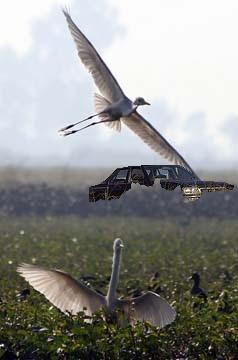tampered: (90, 166, 234, 202)
